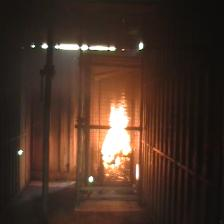fire: (101, 93, 132, 169)
